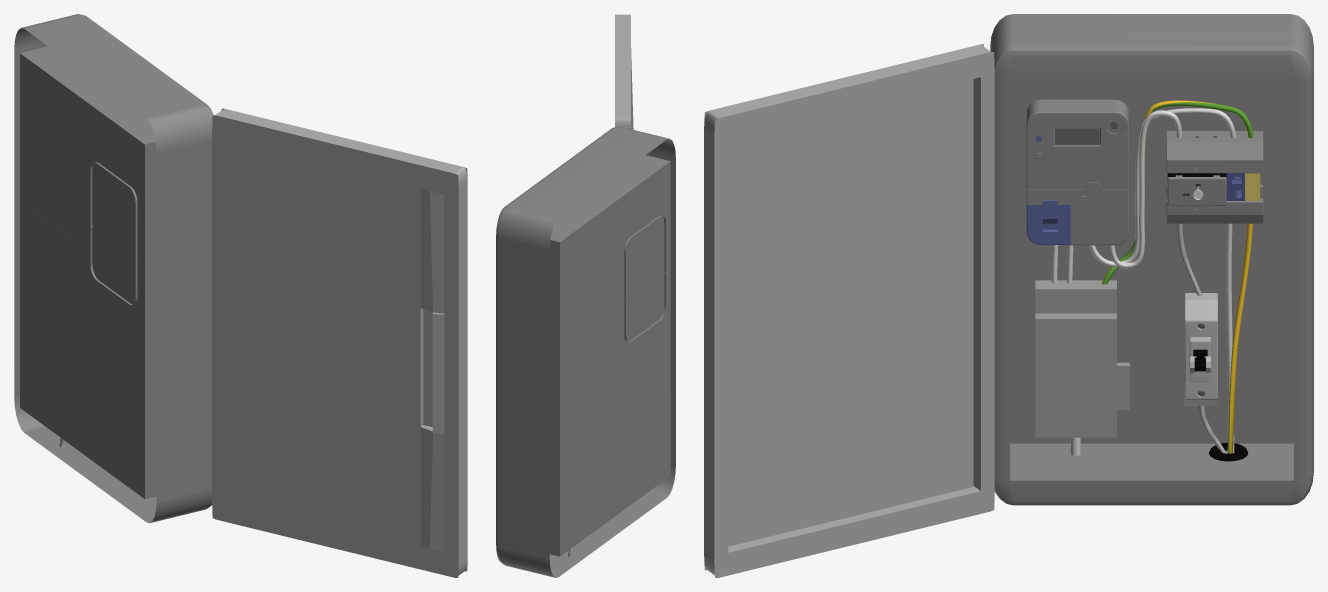
The model's file is MeteringCabinet.glb.
3 renders of one model, left to right at view 1: azimuth 30°, elevation 25°; view 2: azimuth 150°, elevation 25°; view 3: azimuth 270°, elevation 25°, orthographic. The views are drawn at different scales.
Parts seen in each view (by area): view 1: door+Hinges, baseFuseBox, SmartMeer_new_geo; view 2: baseFuseBox, door+Hinges, SmartMeer_new_geo; view 3: door+Hinges, baseFuseBox, SmartMeer_new_geo, meter, Terminal_geo, Cables_geo, polySurface39, TerminalCover_geo, Cables_geo3.
Part boxes in pixels (box(x1,y1,x2,y2)): door+Hinges: box(212, 108, 467, 577); baseFuseBox: box(14, 14, 213, 523); SmartMeer_new_geo: box(90, 162, 137, 305); baseFuseBox: box(496, 126, 675, 577); door+Hinges: box(615, 14, 633, 129); SmartMeer_new_geo: box(624, 215, 665, 342); door+Hinges: box(704, 44, 994, 577); baseFuseBox: box(990, 14, 1313, 505); SmartMeer_new_geo: box(1026, 99, 1129, 245); meter: box(1035, 280, 1129, 437); Terminal_geo: box(1166, 131, 1263, 223); Cables_geo: box(1051, 100, 1253, 295); polySurface39: box(1184, 293, 1217, 405); TerminalCover_geo: box(1166, 141, 1263, 173); Cables_geo3: box(1199, 223, 1252, 453).
Size of the model in its own units: 158 by 313 by 377.
Materials: 18 (1 with a texture image).
